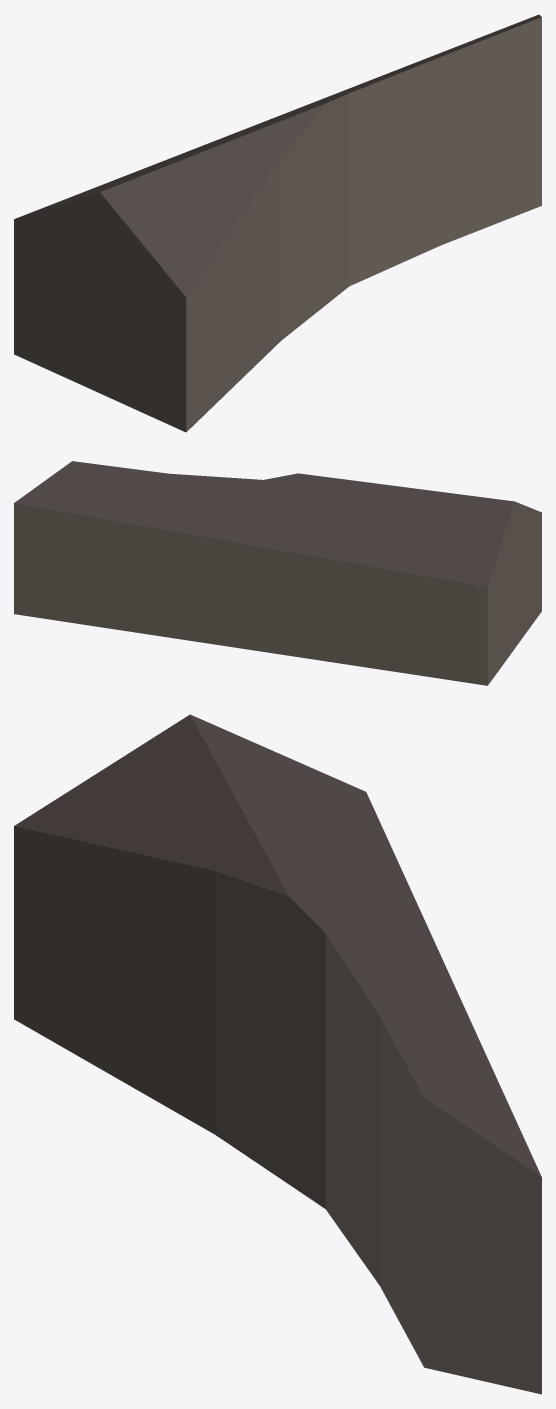
3 renders of one model, top to bottom at view 1: azimuth 30°, elevation 25°; view 2: azimuth 150°, elevation 25°; view 3: azimuth 270°, elevation 25°, orthographic. The views are drawn at different scales.
Visible parts, largest first — view 1: HP-w1200835418; view 2: HP-w1200835418; view 3: HP-w1200835418.
Boxes of the visible parts, x1=… form: HP-w1200835418: x1=14, y1=14, x2=541, y2=432; HP-w1200835418: x1=14, y1=461, x2=541, y2=685; HP-w1200835418: x1=14, y1=714, x2=541, y2=1394.
Bounding box in the file's own units: 27.26 × 8.94 × 14.86.
